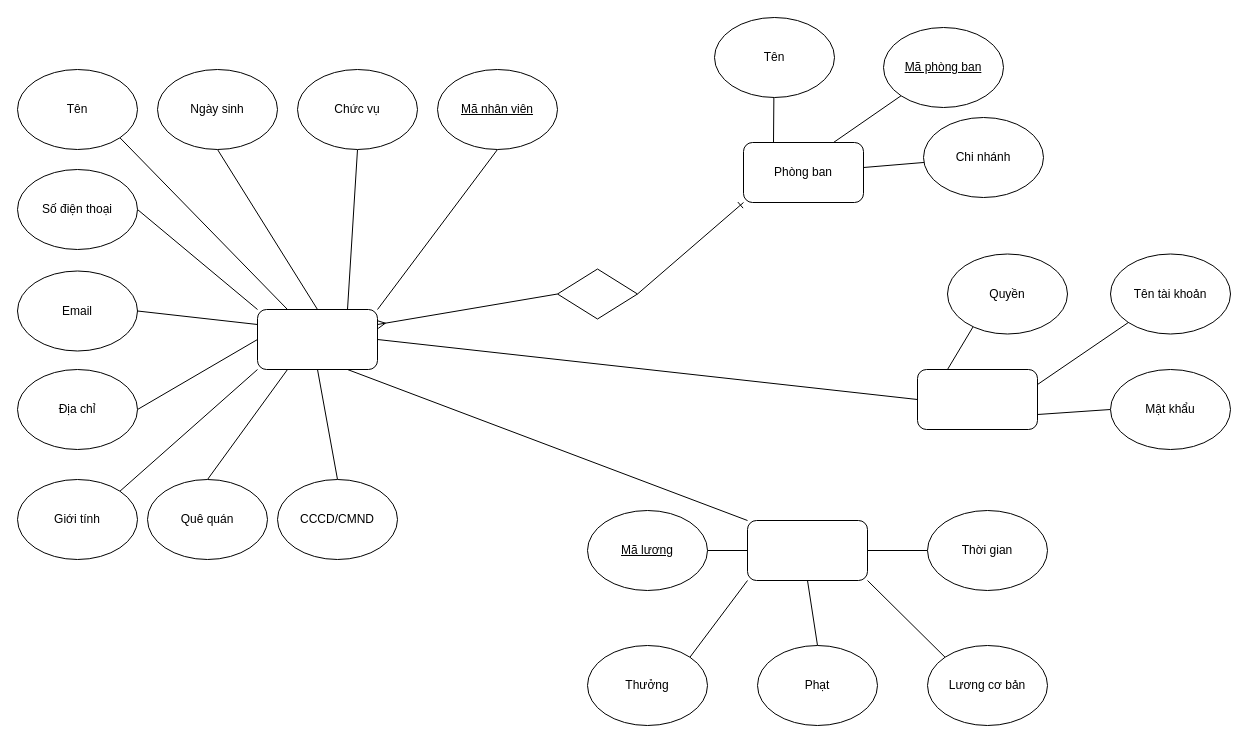
The diagram is 1248 pixels wide and 743 high, and some of its shapes have lost their labels. The shapes that lost their labels are listed below. From the top down, each one's centre as x and y in pixels, then its label:
At [597,293]: "Thuộc".
At [317,339]: "Nhân viên".
At [977,399]: "Tài khoản".
At [807,550]: "Lương".
